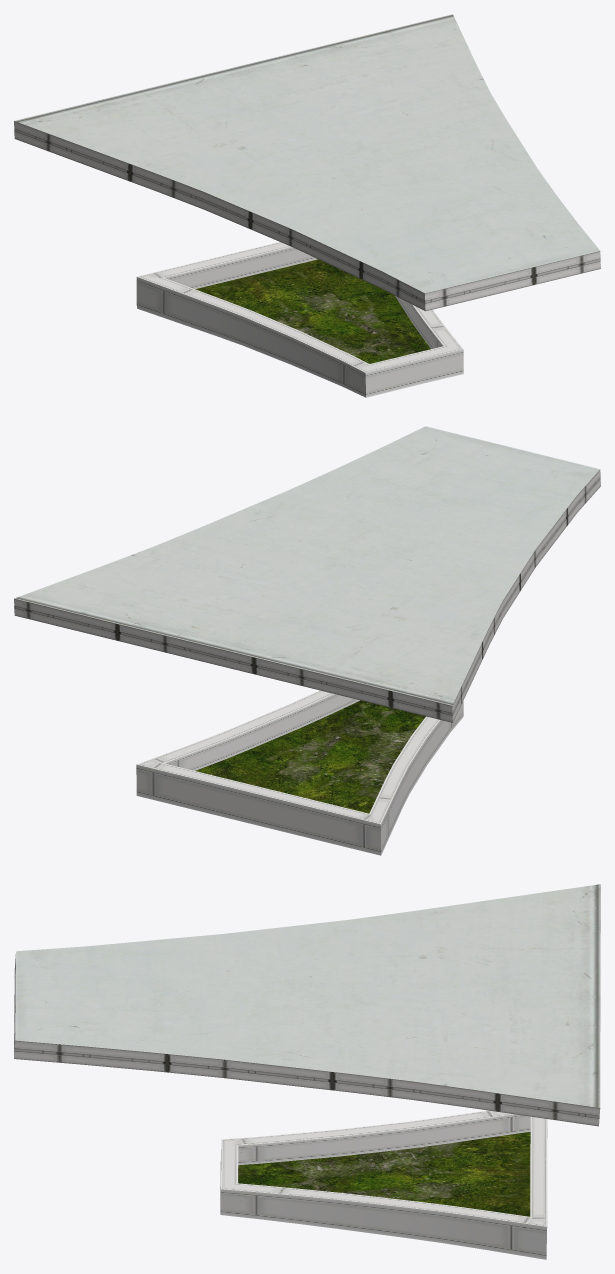
File: STA20_bridgeplanter.FBX
The picture shows the model from 3 angles, top to bottom: view 1: azimuth 30°, elevation 25°; view 2: azimuth 150°, elevation 25°; view 3: azimuth 270°, elevation 25°; orthographic projection. The views are drawn at different scales.
Parts seen in each view (by area): view 1: STA20_bridgeplanter; view 2: STA20_bridgeplanter; view 3: STA20_bridgeplanter.
Part boxes in pixels (x1=…): STA20_bridgeplanter: x1=14, y1=14, x2=600, y2=397; STA20_bridgeplanter: x1=14, y1=426, x2=600, y2=855; STA20_bridgeplanter: x1=14, y1=884, x2=600, y2=1259.
Bounding box in the file's own units: 8.07 × 3.38 × 8.94.
